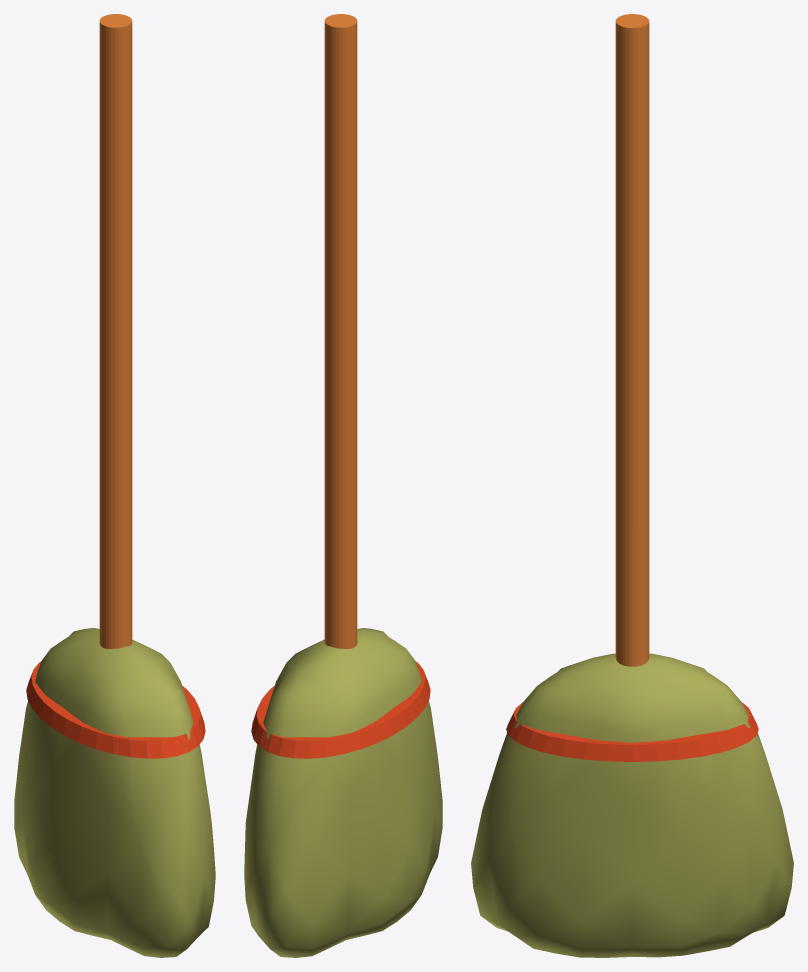
Rendered from broom.fbx.
The picture shows the model from 3 angles, left to right: view 1: azimuth 30°, elevation 25°; view 2: azimuth 150°, elevation 25°; view 3: azimuth 270°, elevation 25°; orthographic projection. The views are drawn at different scales.
Parts seen in each view (by area): view 1: Icosphere, Cylinder, Cylinder.001; view 2: Icosphere, Cylinder, Cylinder.001; view 3: Icosphere, Cylinder, Cylinder.001.
Boxes of the visible parts, bbox=[...] form: Icosphere: bbox=[14, 628, 215, 957]; Cylinder: bbox=[99, 14, 132, 648]; Cylinder.001: bbox=[26, 661, 205, 758]; Icosphere: bbox=[244, 628, 442, 957]; Cylinder: bbox=[324, 14, 357, 648]; Cylinder.001: bbox=[251, 661, 430, 758]; Icosphere: bbox=[471, 653, 793, 957]; Cylinder: bbox=[615, 14, 649, 666]; Cylinder.001: bbox=[506, 702, 758, 761].
Size of the model in its own units: 191 by 1207 by 386.
